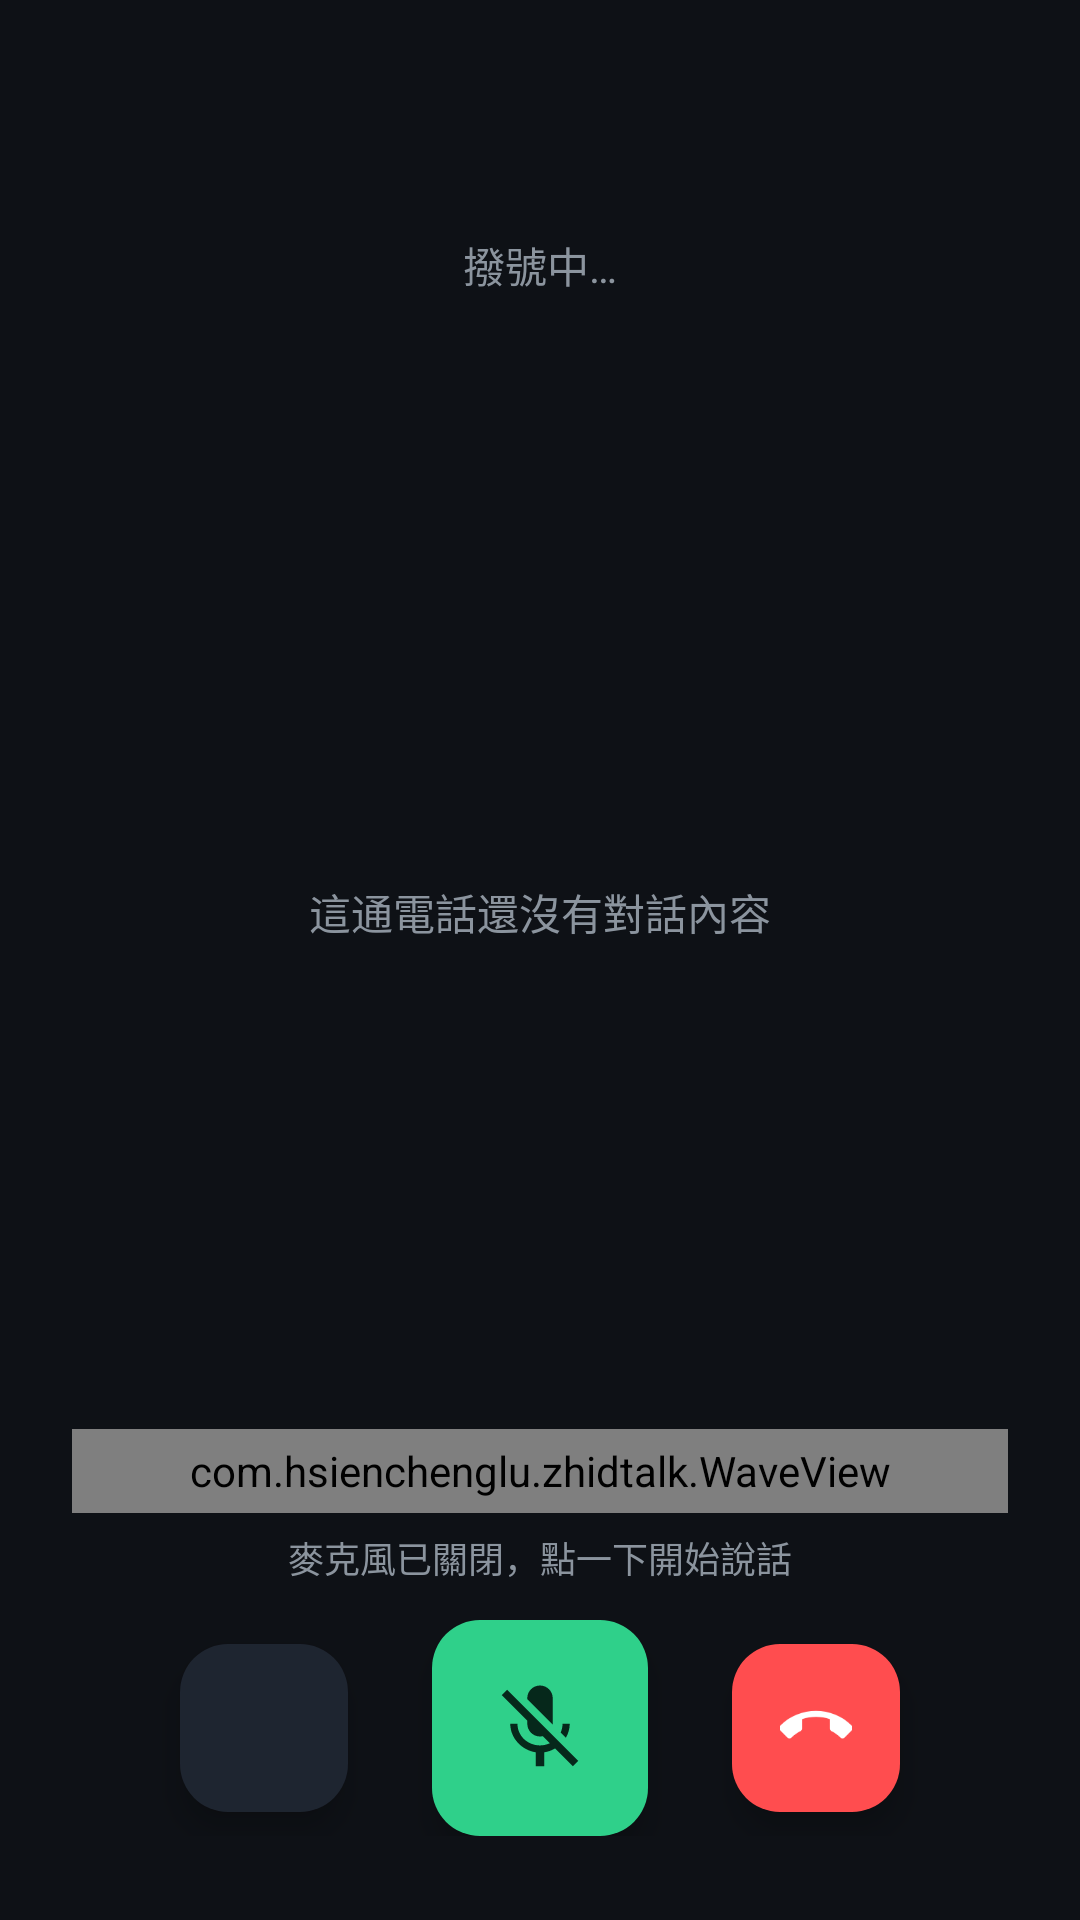

Where icons sit on this 1080*1920 app screen, as (x1, y1, x2, y2):
掛斷: (732, 1644, 900, 1812)
麥克風開關: (432, 1620, 648, 1836)
